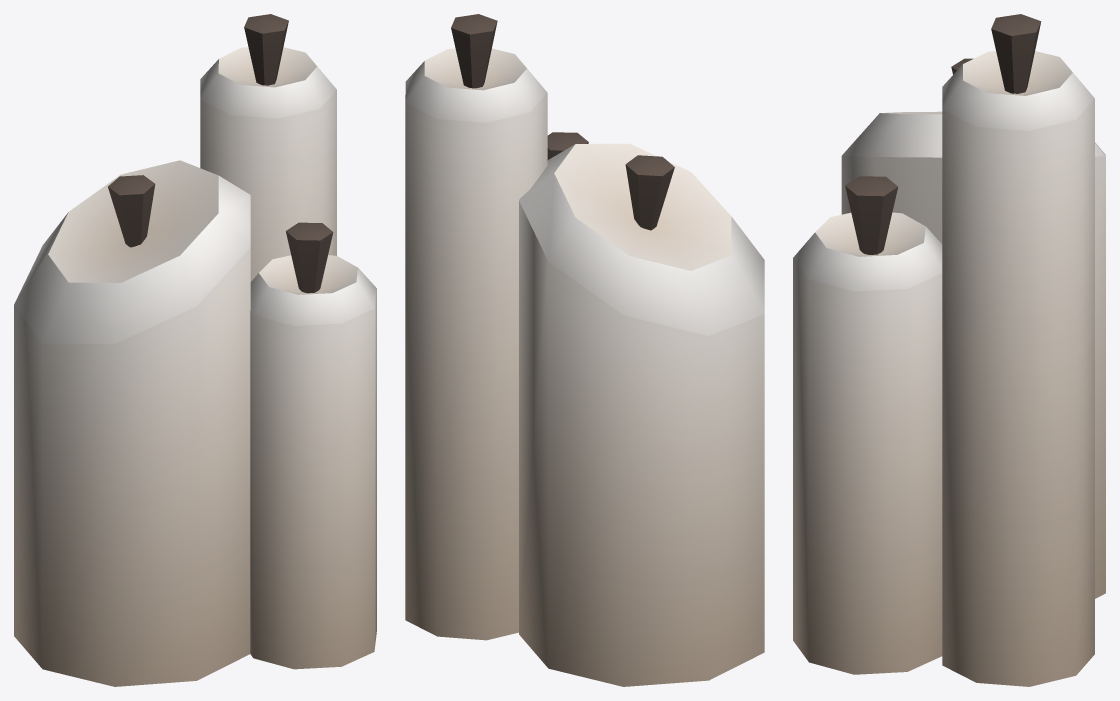
Rendered from candle_triple.gltf.
3 renders of one model, left to right at view 1: azimuth 30°, elevation 25°; view 2: azimuth 150°, elevation 25°; view 3: azimuth 270°, elevation 25°, orthographic. The views are drawn at different scales.
Visible parts, largest first — view 1: candle_triple; view 2: candle_triple; view 3: candle_triple.
Boxes of the visible parts, x1=… form: candle_triple: x1=14, y1=14, x2=376, y2=686; candle_triple: x1=405, y1=14, x2=764, y2=686; candle_triple: x1=793, y1=14, x2=1105, y2=686.
Bounding box in the file's own units: 0.5012 × 0.873 × 0.3899.
Materials: 1 (1 with a texture image).
